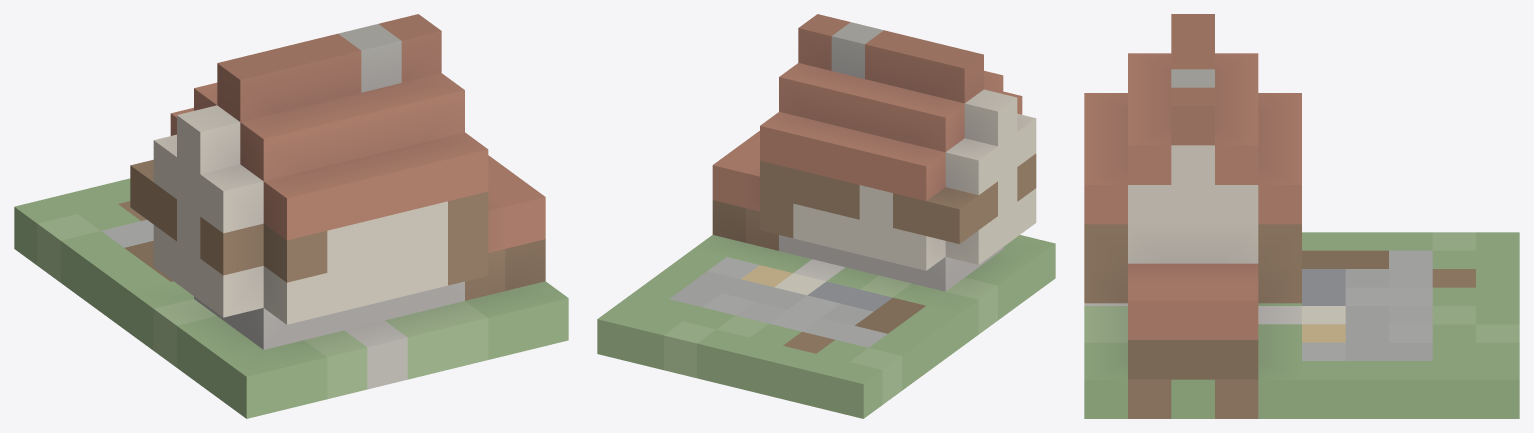
The model's file is cheese_dairy.lite.glb.
3 views of the same model, side by side, from view 1: azimuth 30°, elevation 25°; view 2: azimuth 150°, elevation 25°; view 3: azimuth 270°, elevation 25° (orthographic). The views are drawn at different scales.
Parts seen in each view (by area): view 1: cheese_dairy; view 2: cheese_dairy; view 3: cheese_dairy.
Part boxes in pixels (x1,y1,x2,y2): cheese_dairy: (14,14,568,418); cheese_dairy: (597,14,1055,418); cheese_dairy: (1084,14,1519,418).
Size of the model in its own units: 4 by 3.5 by 5.
